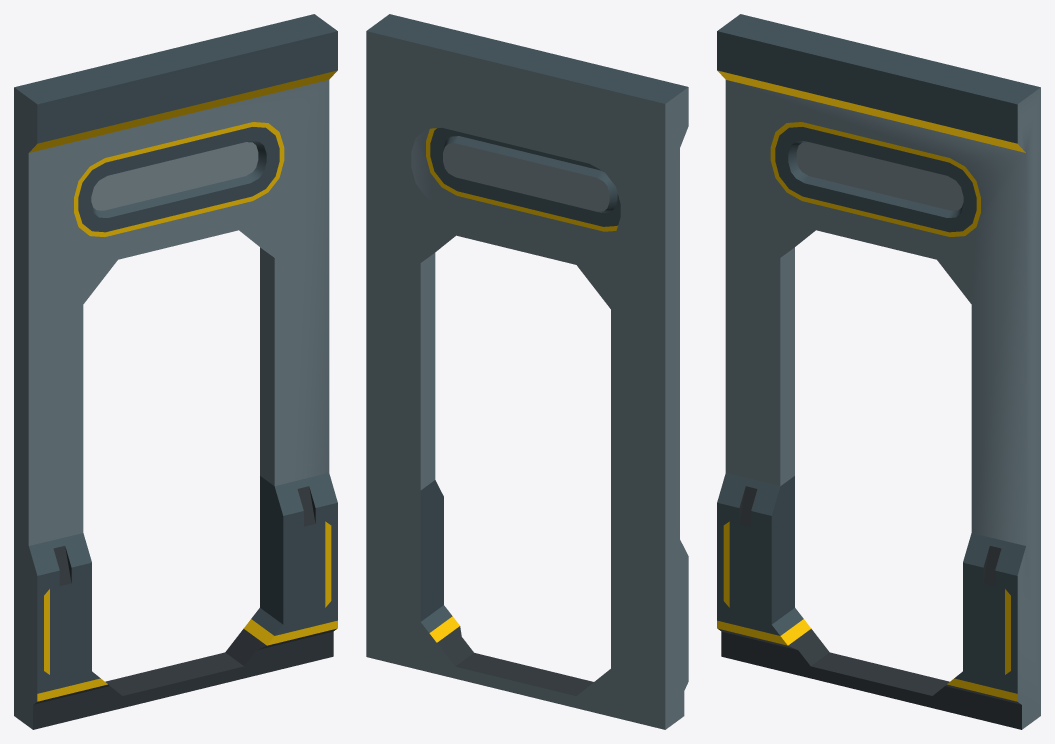
Rendered from Wall_type_C_054.fbx.
The picture shows the model from 3 angles, left to right: view 1: azimuth 30°, elevation 25°; view 2: azimuth 150°, elevation 25°; view 3: azimuth 330°, elevation 25°; orthographic projection.
Parts seen in each view (by area): view 1: Wall_type_C_054; view 2: Wall_type_C_054; view 3: Wall_type_C_054.
Part boxes in pixels (x1=…): Wall_type_C_054: x1=14, y1=14, x2=337, y2=729; Wall_type_C_054: x1=366, y1=14, x2=688, y2=729; Wall_type_C_054: x1=717, y1=14, x2=1040, y2=729.
Size of the model in its own units: 200 by 26.98 by 400.
